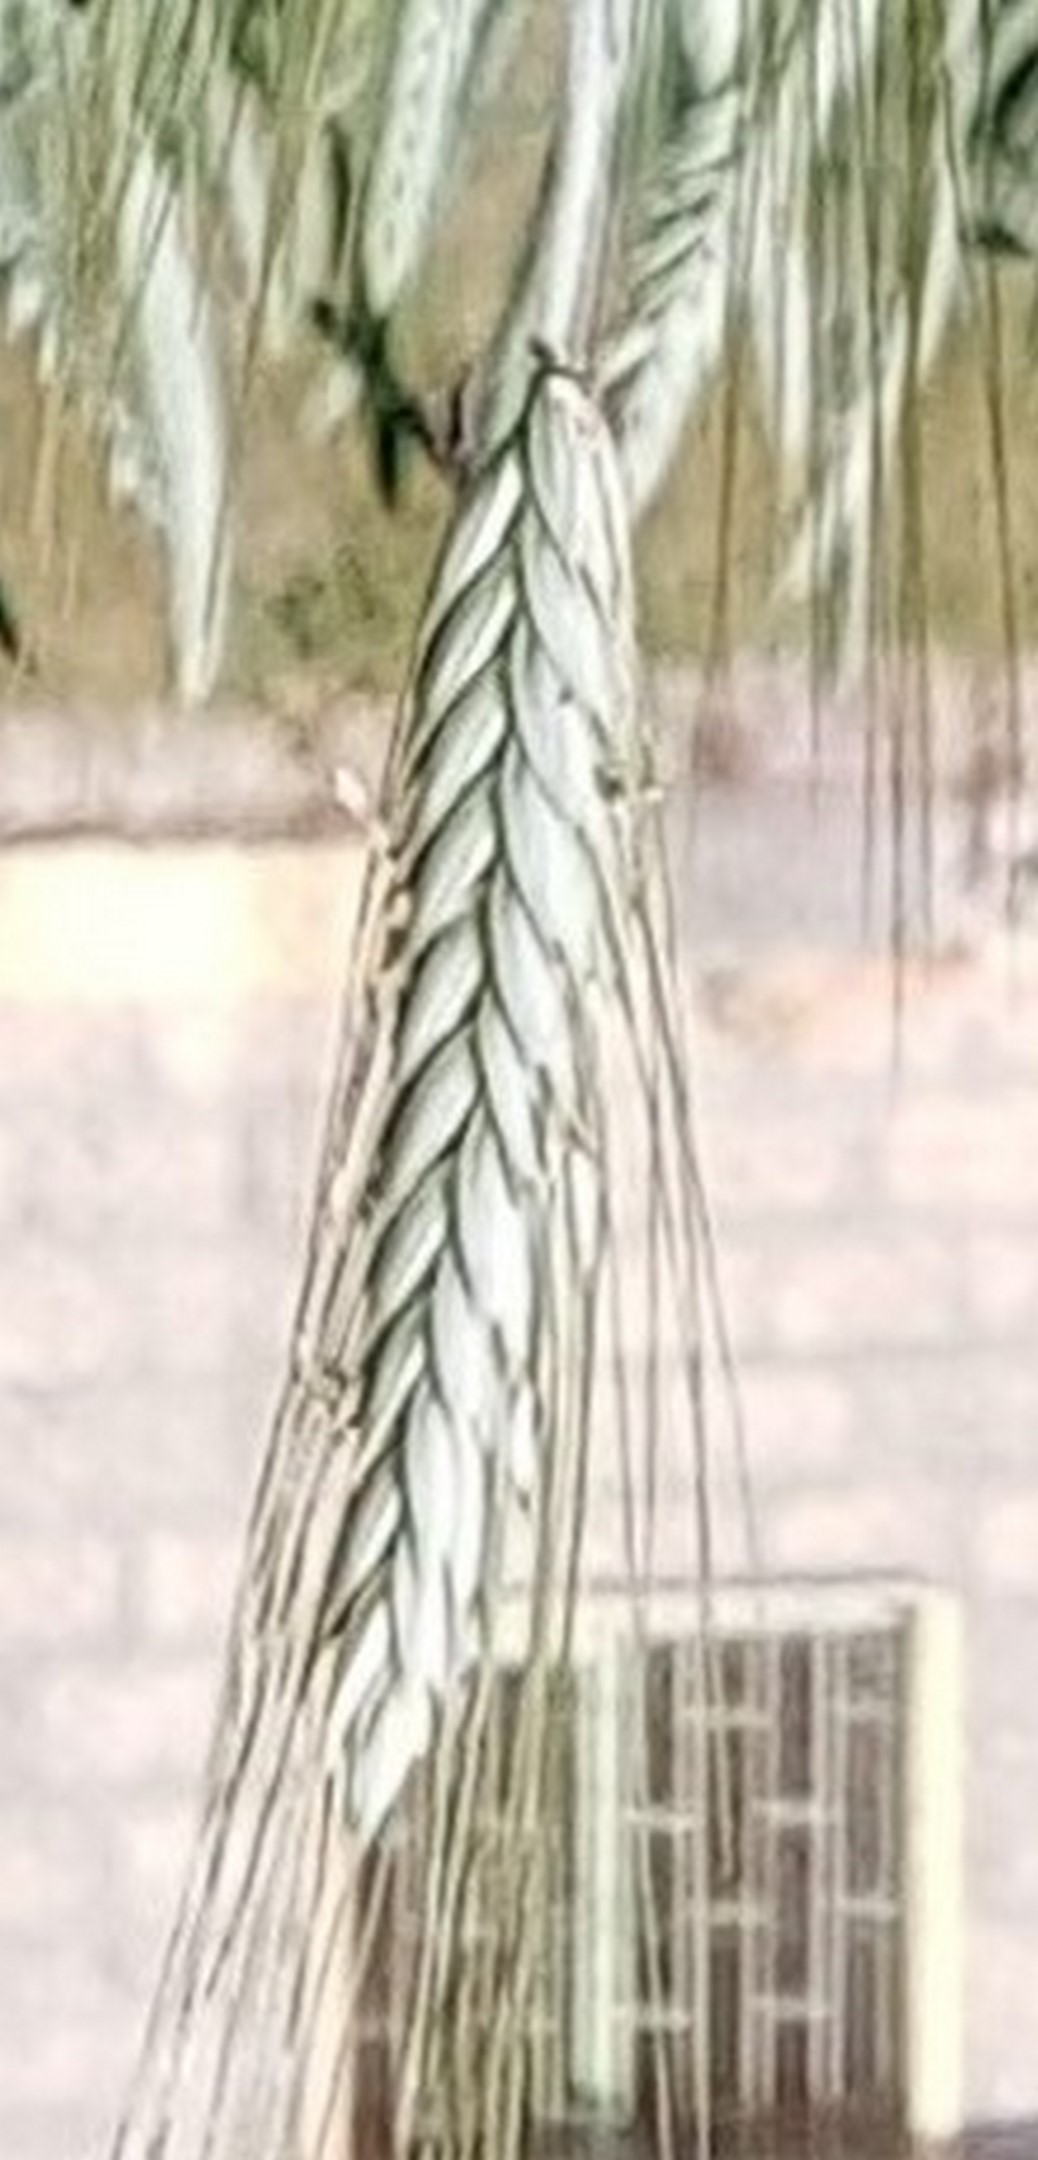Healthy Wheat: (234, 395, 721, 1770)
